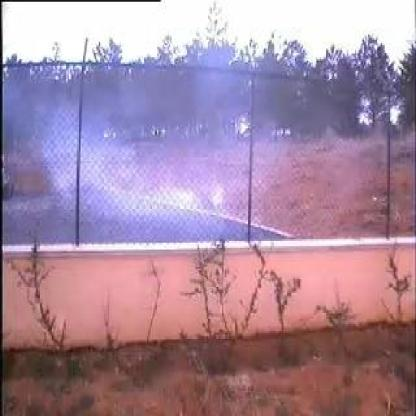-: (74, 68, 256, 242)
